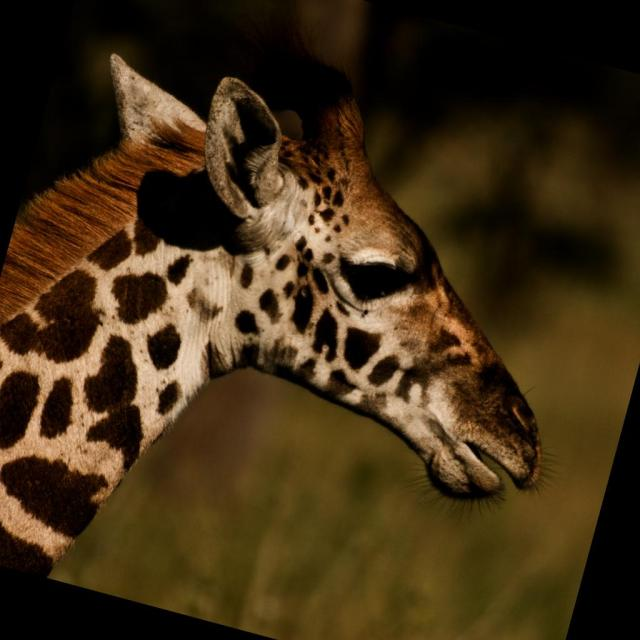Giraffe: (0, 52, 542, 573)
